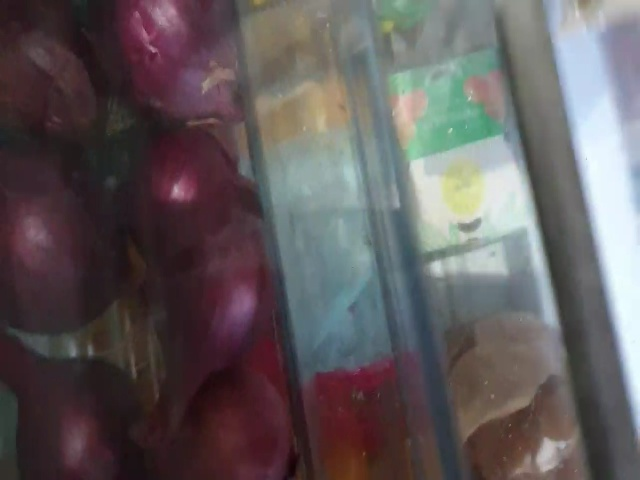red_onion: (1, 153, 124, 337), (1, 335, 155, 477), (77, 4, 239, 116), (116, 123, 245, 262), (189, 369, 298, 477)
